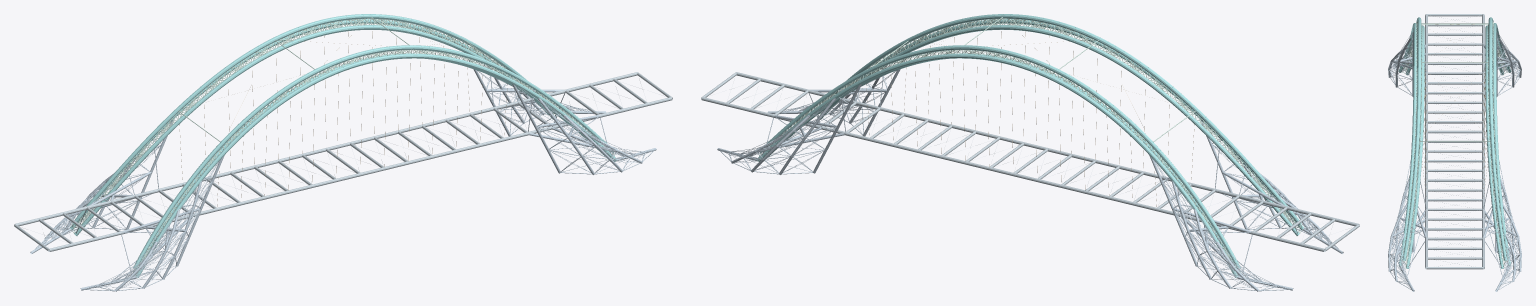
The picture shows the model from 3 angles, left to right: view 1: azimuth 30°, elevation 25°; view 2: azimuth 150°, elevation 25°; view 3: azimuth 270°, elevation 25°; orthographic projection. The views are drawn at different scales.
Visible parts, largest first — view 1: Structural_primary_arch, Structural_end_support, Structural_deck_system, Structural_arch_internal, Structural_cable_web; view 2: Structural_primary_arch, Structural_end_support, Structural_deck_system, Structural_arch_internal, Structural_cable_web; view 3: Structural_deck_system, Structural_primary_arch, Structural_end_support, Structural_arch_internal, Structural_cable_web.
Boxes of the visible parts, x1,y1,x2,y2 form: Structural_primary_arch: (70,14,617,277); Structural_end_support: (30,60,656,291); Structural_deck_system: (14,72,672,251); Structural_arch_internal: (71,17,614,274); Structural_cable_web: (179,23,507,206); Structural_primary_arch: (756,14,1303,277); Structural_end_support: (717,60,1343,291); Structural_deck_system: (701,72,1359,251); Structural_arch_internal: (759,17,1302,274); Structural_cable_web: (866,23,1194,206); Structural_deck_system: (1425,14,1484,269); Structural_primary_arch: (1398,17,1511,268); Structural_end_support: (1388,32,1521,291); Structural_arch_internal: (1401,21,1508,268); Structural_cable_web: (1422,24,1487,196).
Size of the model in its own units: 157 by 39.93 by 34.9.
